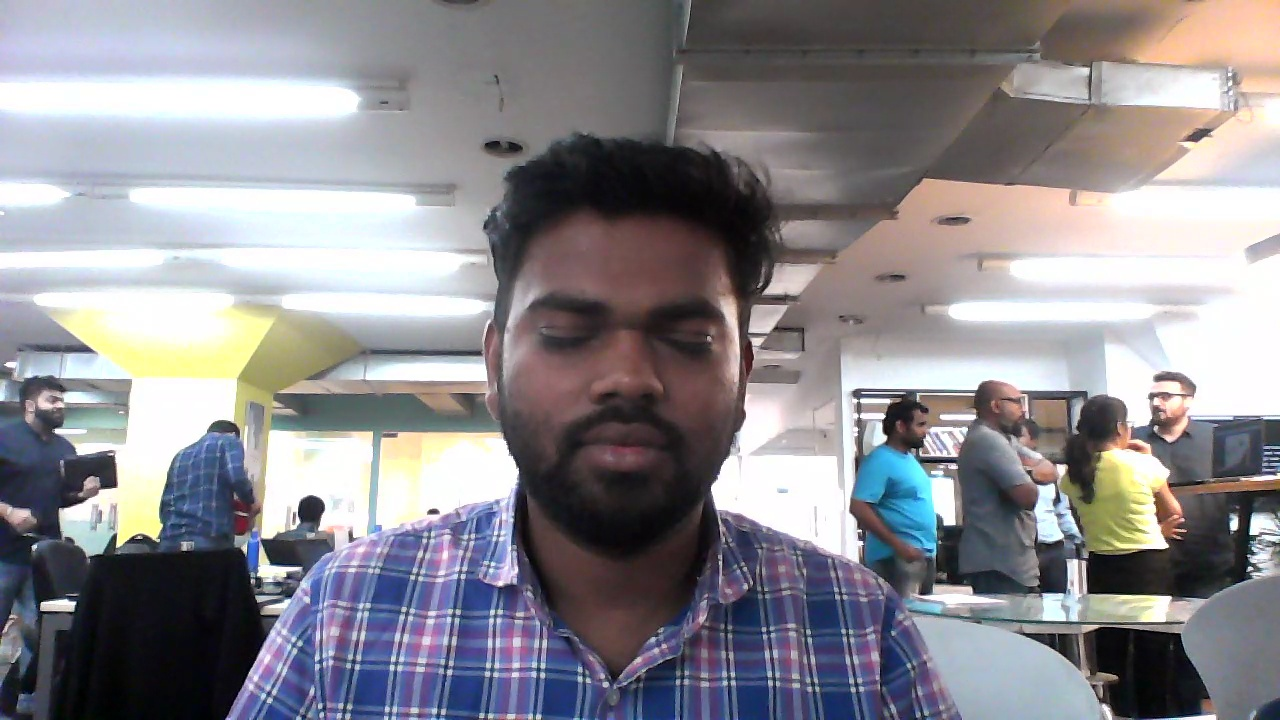closed: (475, 116, 764, 553)
